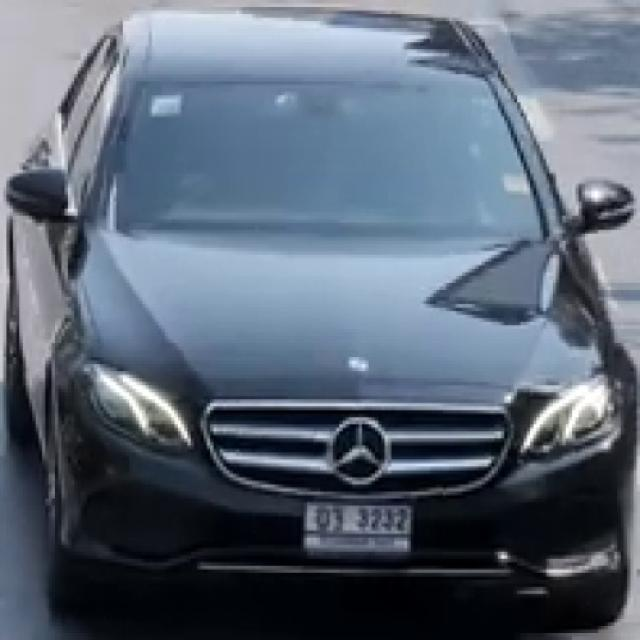plate: (303, 499, 413, 554)
